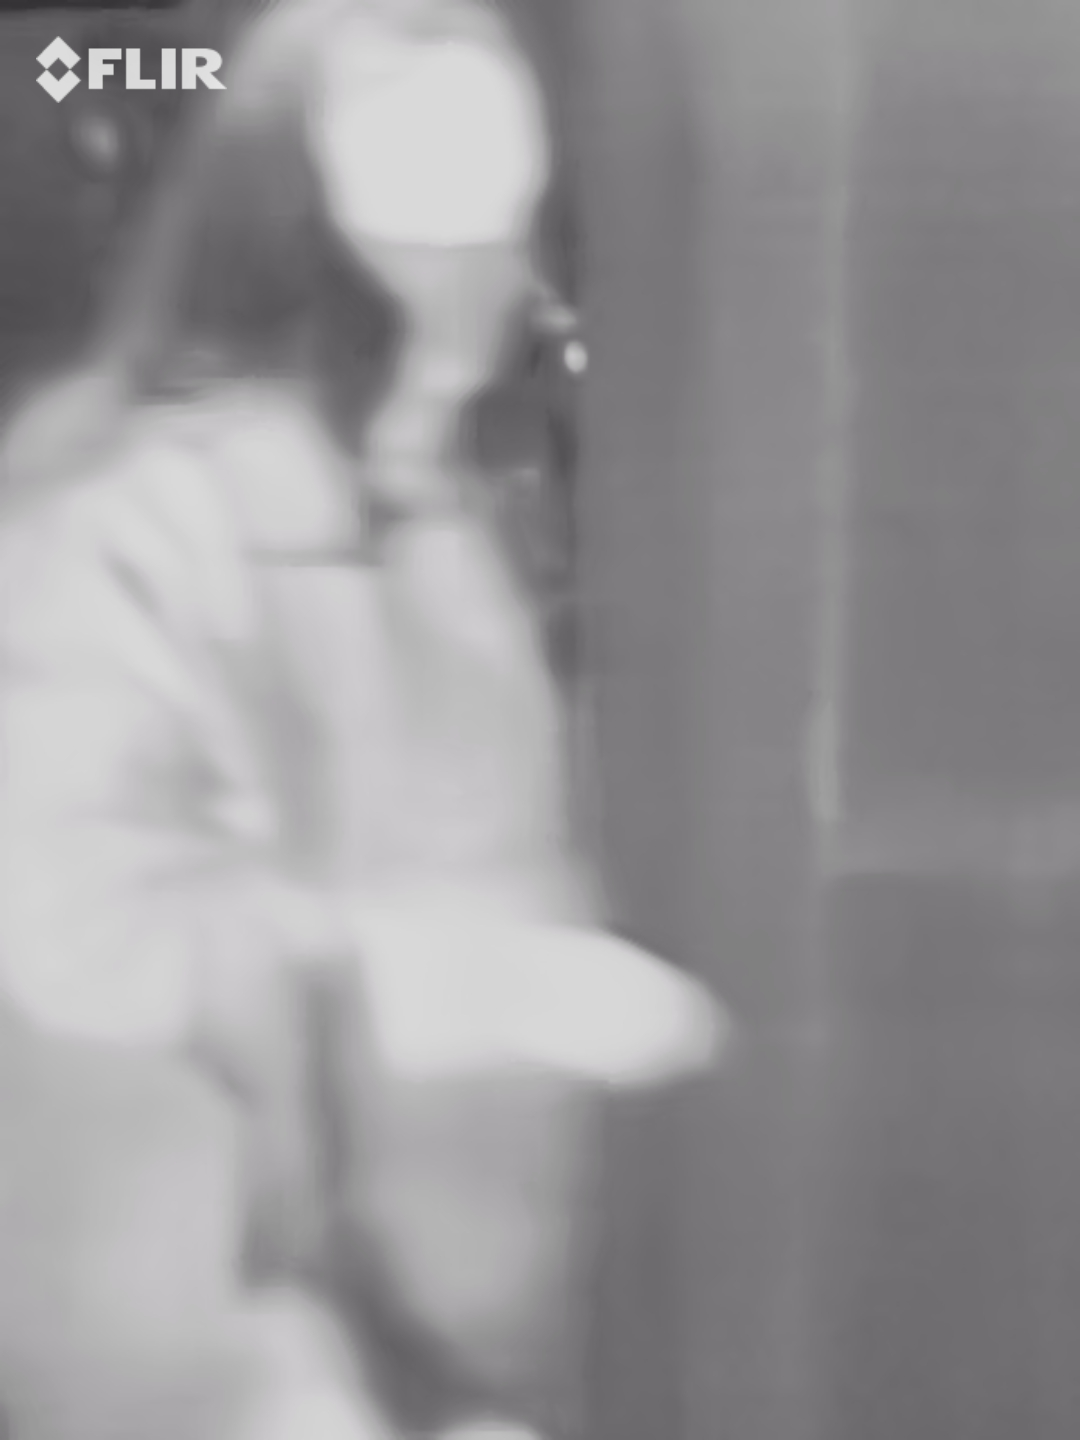head: (216, 4, 544, 425)
